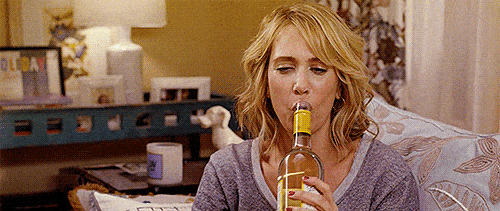drinking: (231, 8, 433, 209)
